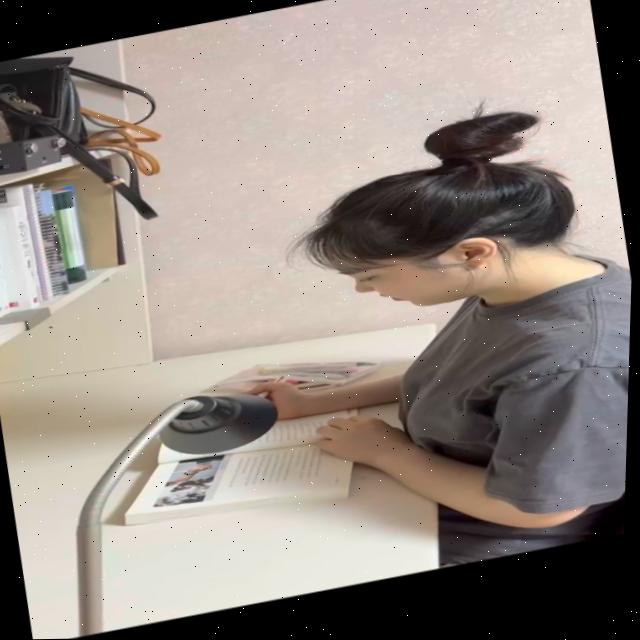studying-person: (54, 79, 638, 625)
